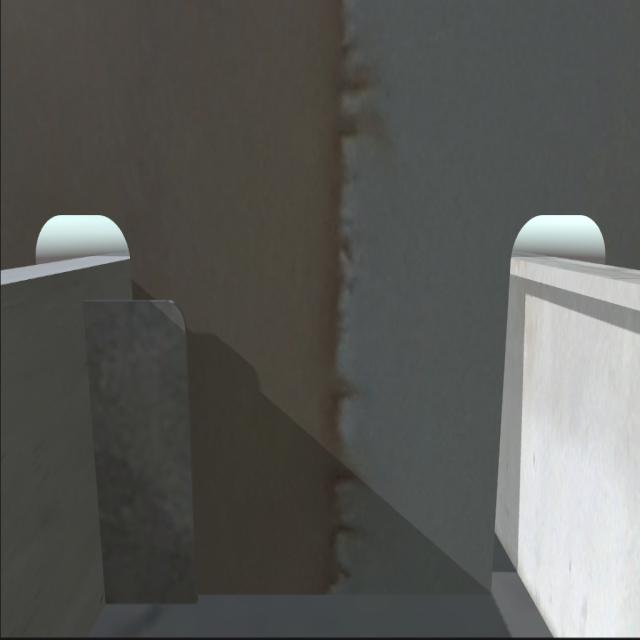fillet_yong_jeop_jang: (107, 586, 497, 615)
longi_yong_jeop_jang: (80, 296, 117, 608)
plate_CP05: (81, 297, 199, 600)
